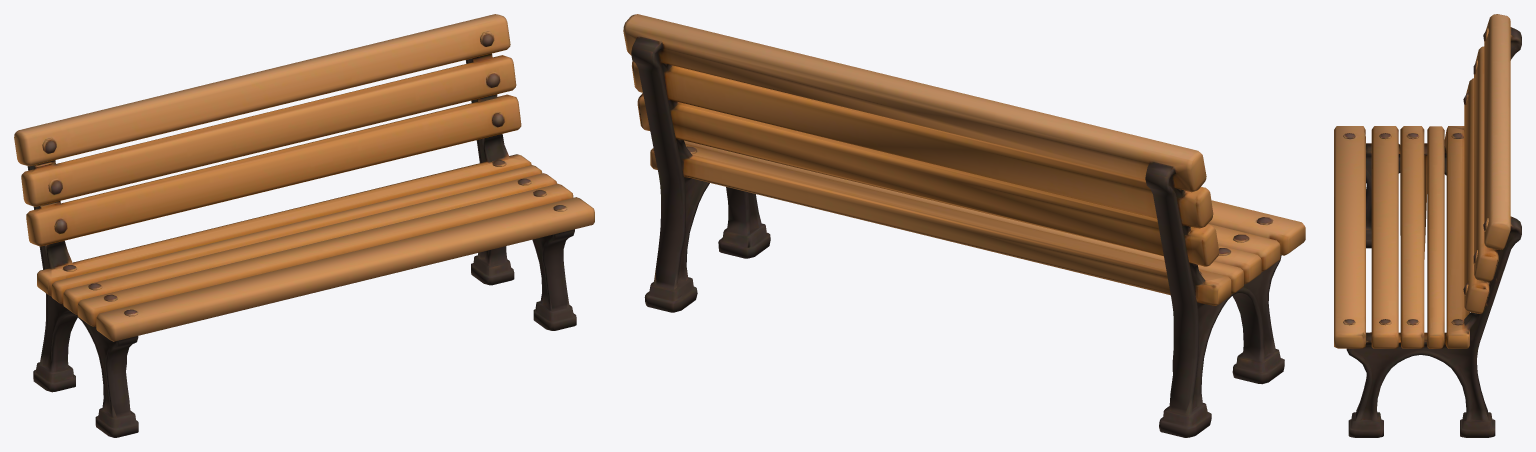
The model's file is CityBench2.glb.
3 views of the same model, side by side, from view 1: azimuth 30°, elevation 25°; view 2: azimuth 150°, elevation 25°; view 3: azimuth 270°, elevation 25° (orthographic). The views are drawn at different scales.
Parts seen in each view (by area): view 1: CityBench2; view 2: CityBench2; view 3: CityBench2.
Boxes of the visible parts, left/top/right/bottom form: CityBench2: left=14, top=14, right=594, bottom=437; CityBench2: left=623, top=14, right=1305, bottom=437; CityBench2: left=1334, top=14, right=1521, bottom=437.
Bounding box in the file's own units: 1.9 × 0.9236 × 0.7205.
1 material, 1 textured.
